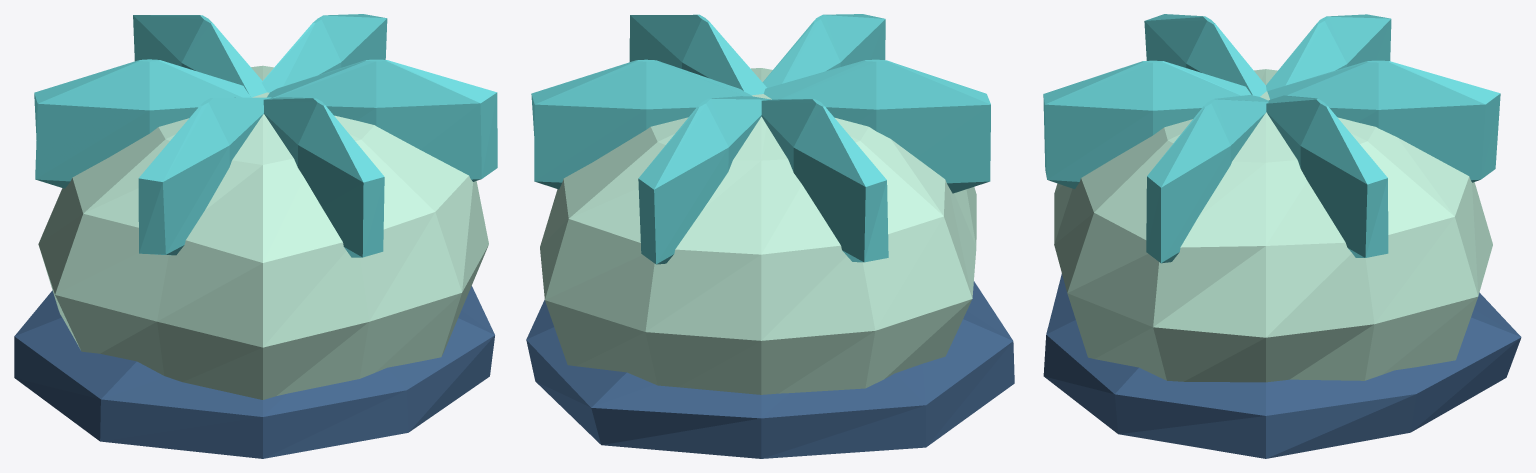
Rendered from brain_coral.glb.
The picture shows the model from 3 angles, left to right: view 1: azimuth 30°, elevation 25°; view 2: azimuth 150°, elevation 25°; view 3: azimuth 270°, elevation 25°; orthographic projection.
Parts seen in each view (by area): view 1: DL006_BrainCoral_coral_mint, DL006_BrainCoral_coral_turq, DL006_BrainCoral_shadow_blue; view 2: DL006_BrainCoral_coral_mint, DL006_BrainCoral_coral_turq, DL006_BrainCoral_shadow_blue; view 3: DL006_BrainCoral_coral_mint, DL006_BrainCoral_coral_turq, DL006_BrainCoral_shadow_blue.
Boxes of the visible parts, x1,y1,x2,y2 form: DL006_BrainCoral_coral_mint: (38, 65, 488, 399); DL006_BrainCoral_coral_turq: (34, 14, 497, 257); DL006_BrainCoral_shadow_blue: (14, 286, 494, 458); DL006_BrainCoral_coral_mint: (540, 68, 976, 394); DL006_BrainCoral_coral_turq: (531, 14, 990, 264); DL006_BrainCoral_shadow_blue: (526, 281, 1014, 458); DL006_BrainCoral_coral_mint: (1054, 69, 1492, 382); DL006_BrainCoral_coral_turq: (1043, 14, 1500, 263); DL006_BrainCoral_shadow_blue: (1043, 273, 1521, 458).
Size of the model in its own units: 1.6 by 1.28 by 1.61.
